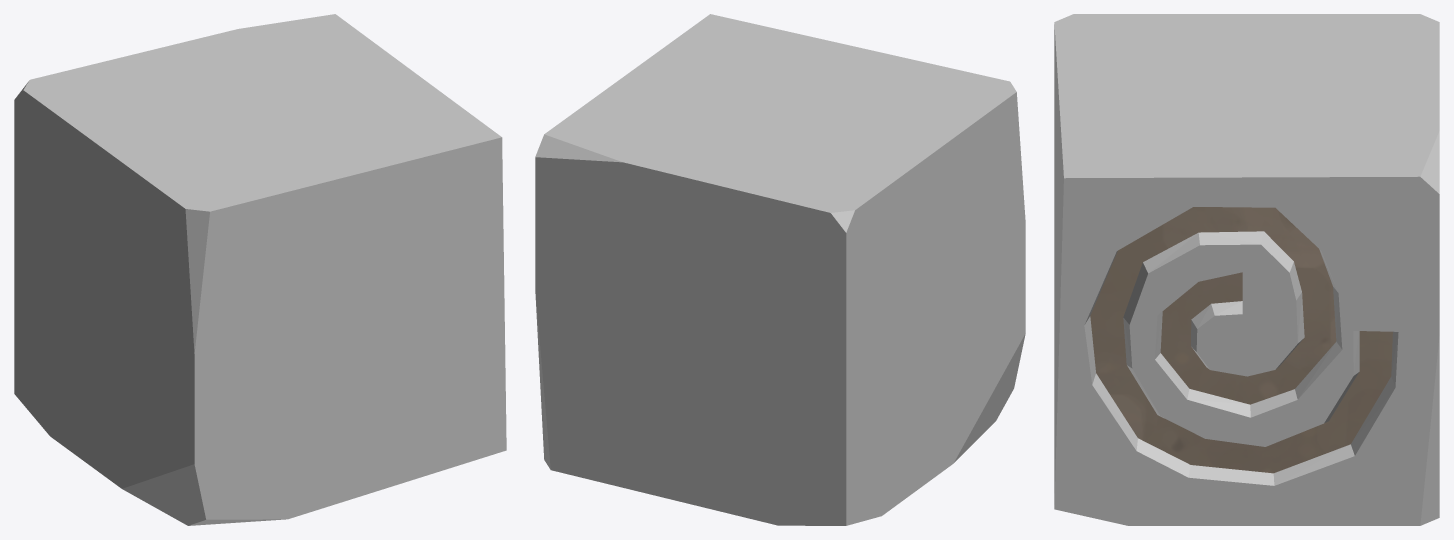
Rendered from Deco_2.fbx.
3 views of the same model, side by side, from view 1: azimuth 30°, elevation 25°; view 2: azimuth 150°, elevation 25°; view 3: azimuth 270°, elevation 25° (orthographic). The views are drawn at different scales.
Visible parts, largest first — view 1: _Deco_2; view 2: _Deco_2; view 3: _Deco_2.
Boxes of the visible parts, <box> form: _Deco_2: <box>14,14,506,525</box>; _Deco_2: <box>535,14,1025,525</box>; _Deco_2: <box>1054,14,1439,525</box>.
Bounding box in the file's own units: 100 × 100 × 100.
